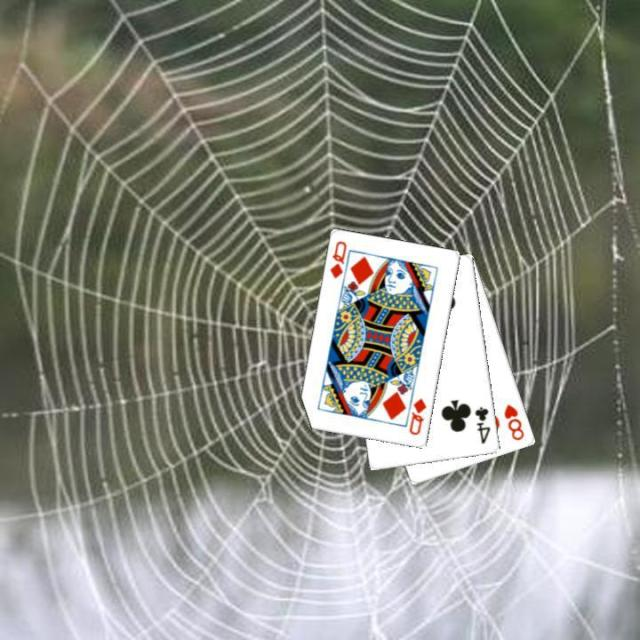4C: (471, 403, 493, 446)
8H: (501, 400, 526, 443)
QD: (326, 237, 348, 281), (406, 395, 428, 437)
